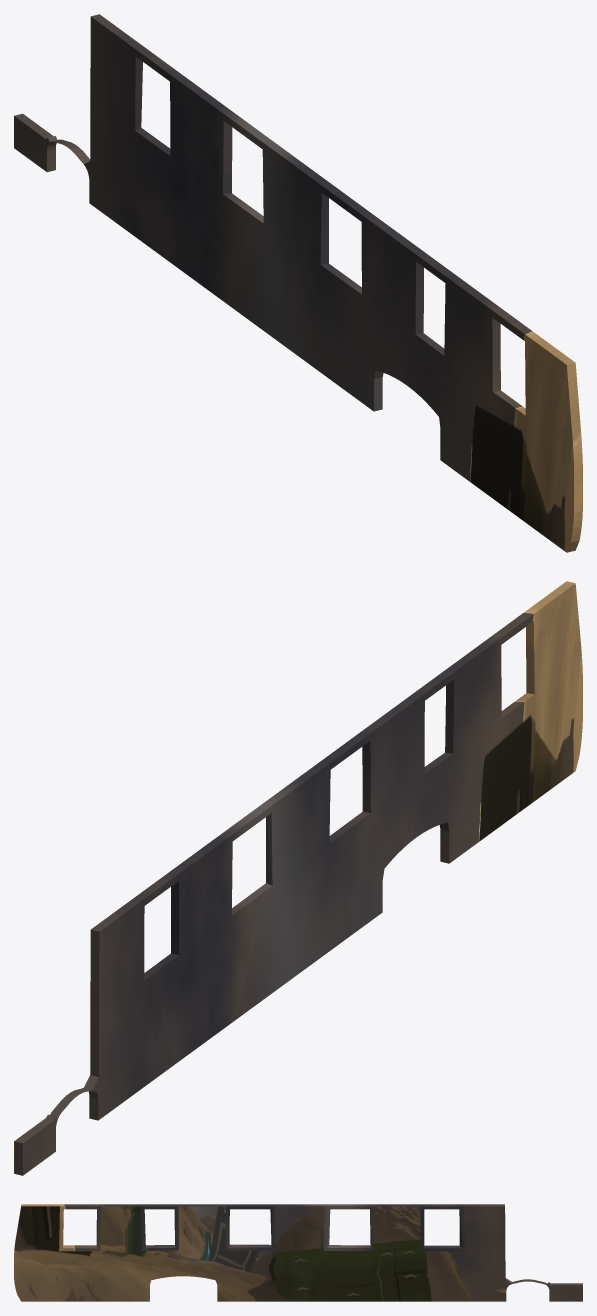
Rendered from testing2.fbx.
3 views of the same model, one above another, from view 1: azimuth 30°, elevation 25°; view 2: azimuth 150°, elevation 25°; view 3: azimuth 270°, elevation 25° (orthographic). The views are drawn at different scales.
Parts seen in each view (by area): view 1: pCube555; view 2: pCube555; view 3: pCube555.
Part boxes in pixels (left/top/right/bottom): pCube555: left=14, top=14, right=582, bottom=552; pCube555: left=14, top=581, right=582, bottom=1175; pCube555: left=14, top=1204, right=582, bottom=1301.
Size of the model in its own units: 1.1 by 22.29 by 120.
1 material, 1 textured.
